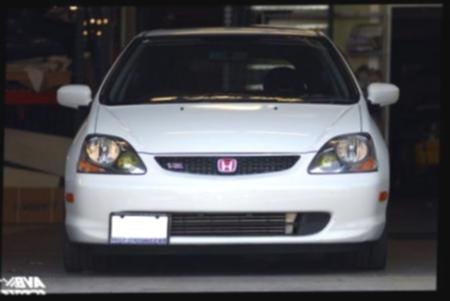License_Plate: (99, 211, 173, 250)
